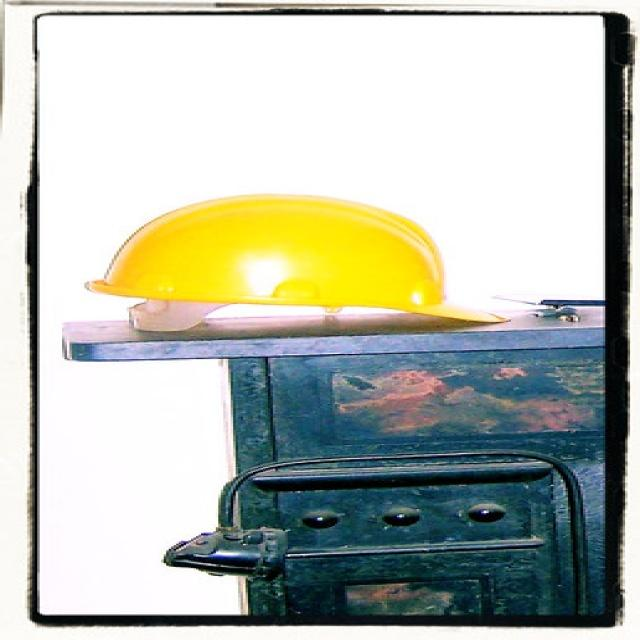helmet: (90, 256, 499, 456)
